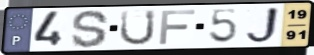4: (32, 10, 68, 50)
5: (207, 7, 240, 44)
F: (157, 9, 197, 46)
J: (243, 6, 282, 46)
S: (70, 9, 111, 49)
U: (118, 9, 157, 47)
